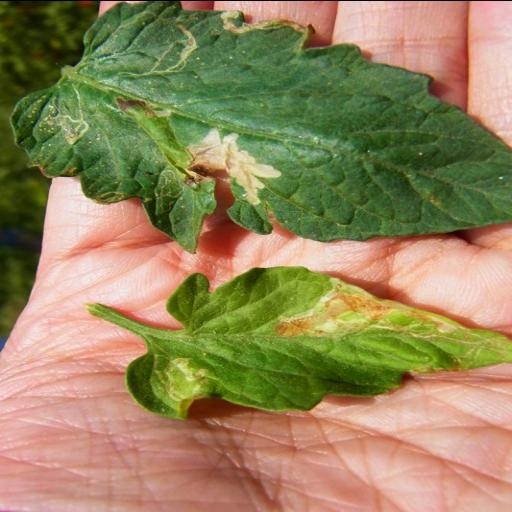Leaf Miner: (1, 0, 512, 252), (122, 269, 512, 420)
